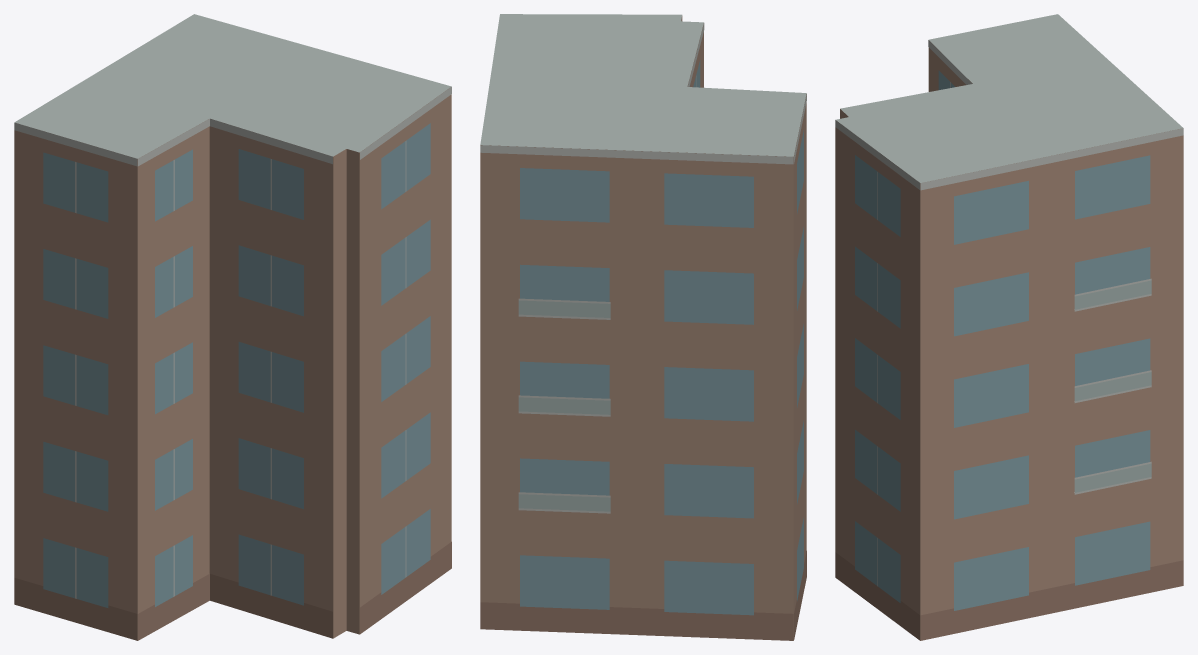
The model's file is survey-upis-32787249.glb.
3 views of the same model, side by side, from view 1: azimuth 30°, elevation 25°; view 2: azimuth 150°, elevation 25°; view 3: azimuth 270°, elevation 25° (orthographic). The views are drawn at different scales.
Visible parts, largest first — view 1: survey-upis-32787249.tmp; view 2: survey-upis-32787249.tmp; view 3: survey-upis-32787249.tmp.
Part boxes in pixels (left/top/right/bottom): survey-upis-32787249.tmp: left=14, top=14, right=451, bottom=640; survey-upis-32787249.tmp: left=480, top=14, right=806, bottom=640; survey-upis-32787249.tmp: left=835, top=14, right=1183, bottom=640.
Bounding box in the file's own units: 12.09 × 15.25 × 10.52.
